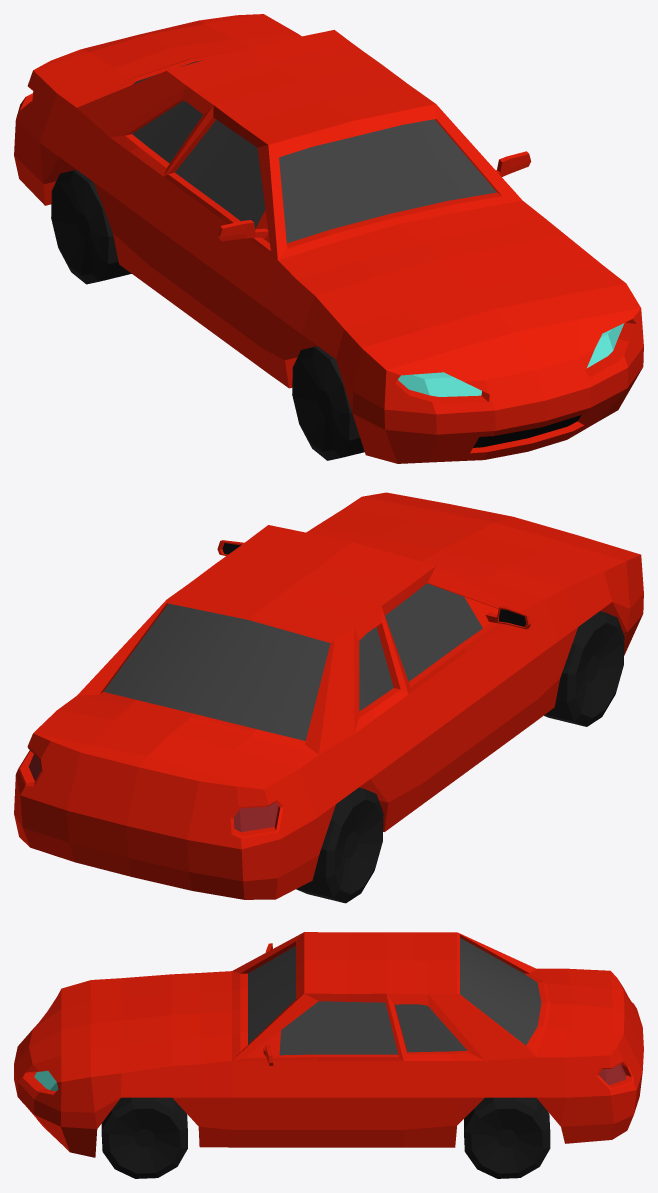
File: 5red.fbx
3 views of the same model, one above another, from view 1: azimuth 30°, elevation 25°; view 2: azimuth 150°, elevation 25°; view 3: azimuth 270°, elevation 25° (orthographic). The views are drawn at different scales.
Parts seen in each view (by area): view 1: Cube; view 2: Cube; view 3: Cube.
Part boxes in pixels (x1,y1,x2,y2): Cube: (14, 14, 643, 463); Cube: (14, 492, 643, 903); Cube: (14, 932, 643, 1178).
Bounding box in the file's own units: 122 × 83.59 × 284.
